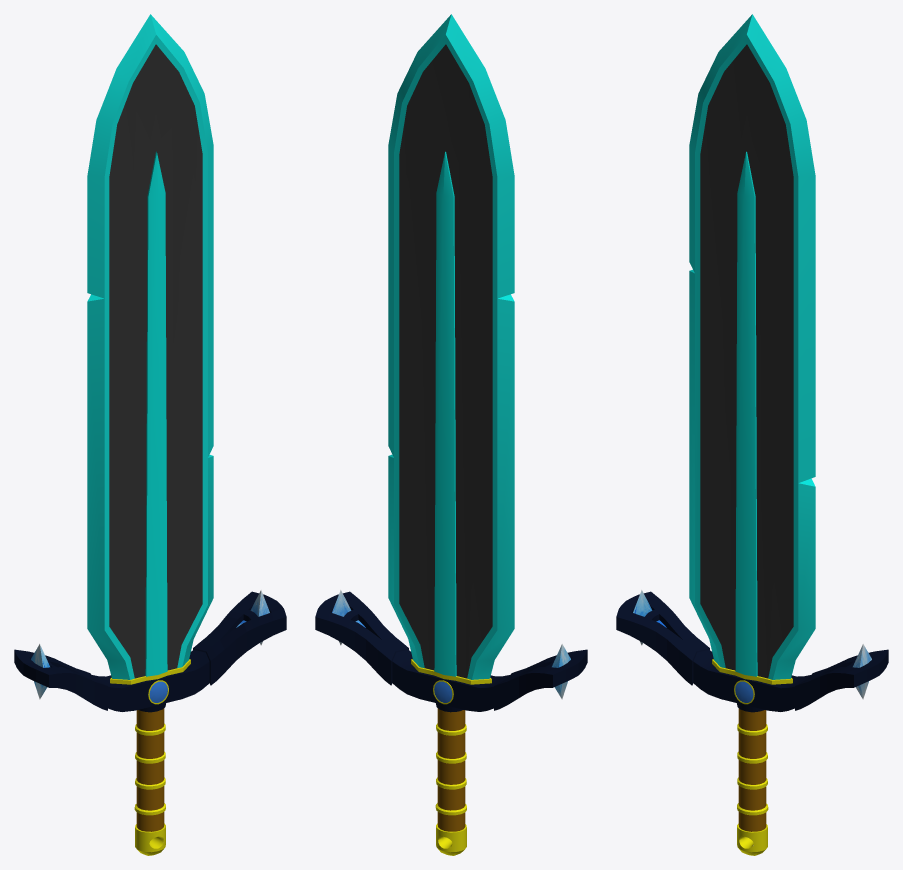
Rendered from frosty_essence_sword.glb.
3 views of the same model, side by side, from view 1: azimuth 30°, elevation 25°; view 2: azimuth 150°, elevation 25°; view 3: azimuth 330°, elevation 25° (orthographic).
Parts seen in each view (by area): view 1: Frosty Eclipse; view 2: Frosty Eclipse; view 3: Frosty Eclipse.
Part boxes in pixels (<box>): Frosty Eclipse: <box>14,14,286,855</box>; Frosty Eclipse: <box>315,14,587,855</box>; Frosty Eclipse: <box>616,14,888,855</box>.
Size of the model in its own units: 1.61 by 5.08 by 0.381.
Materials: 1 (1 with a texture image).
